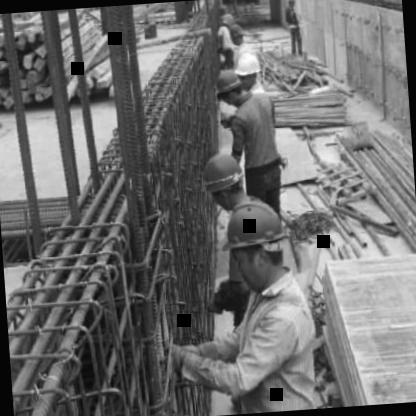helmet: (219, 191, 294, 294), (200, 148, 250, 218), (212, 63, 247, 106), (235, 49, 264, 94), (227, 21, 246, 50)
